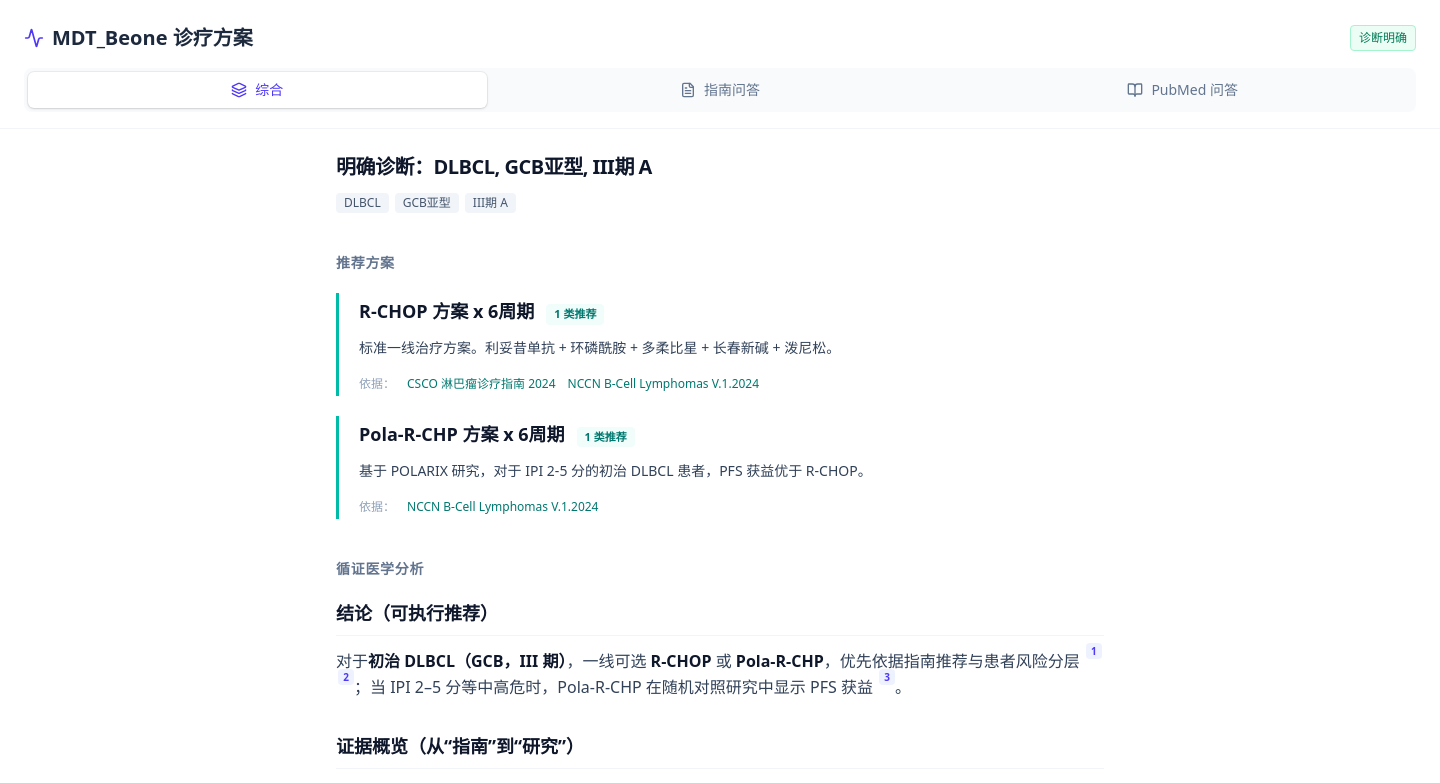
Test: CenterPanel › guidelines tab shows guideline sources and recommendations
This screenshot has width=1440, height=783.
Click the button "指南问答". click: (720, 90)
box: [491,72,949,108]
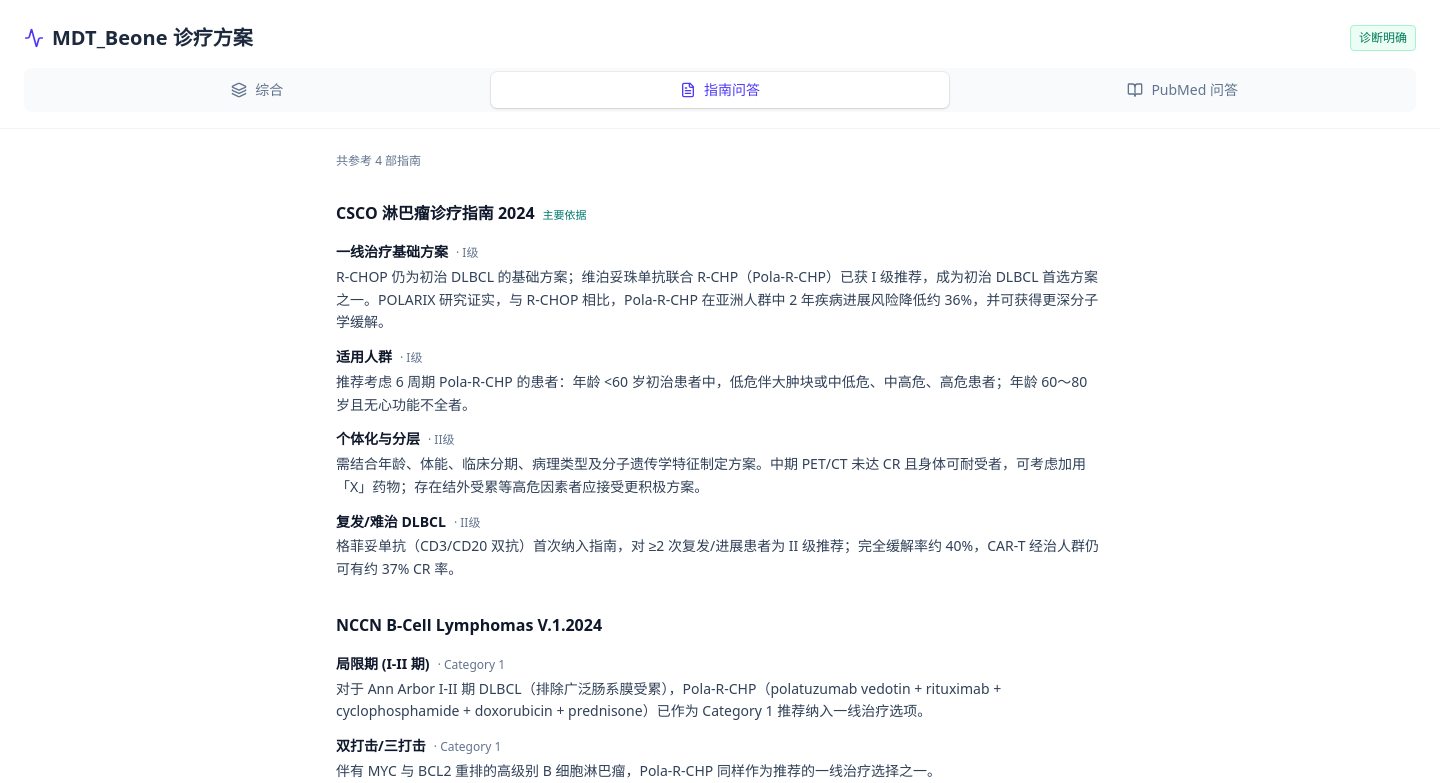
Expected: the text "共参考 4 部指南" is shown, [336,152,421,169]
Expected: the heading "CSCO 淋巴瘤诊疗指南 2024 主要依据" is shown, [336,202,586,224]
Expected: the text "一线治疗基础方案" is shown, [336,242,448,261]
